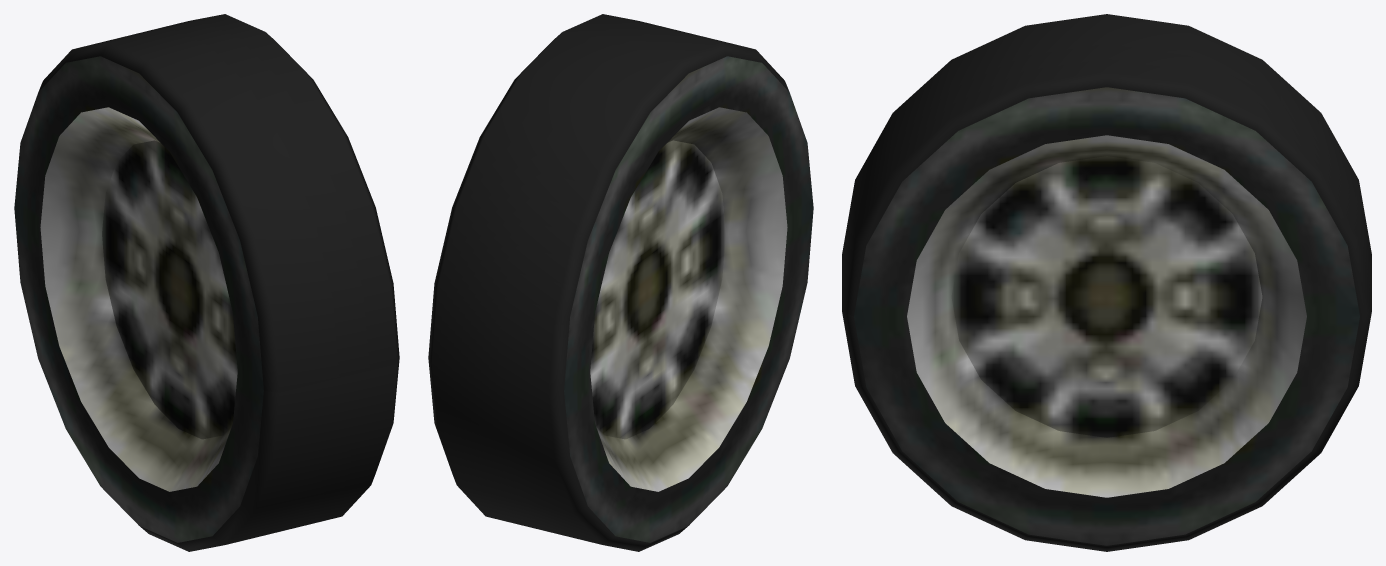
The model's file is wheel_front_left.glb.
The picture shows the model from 3 angles, left to right: view 1: azimuth 30°, elevation 25°; view 2: azimuth 150°, elevation 25°; view 3: azimuth 270°, elevation 25°; orthographic projection.
Visible parts, largest first — view 1: tire_fl; view 2: tire_fl; view 3: tire_fl.
Part boxes in pixels (left/top/right/bottom): tire_fl: left=14, top=14, right=399, bottom=551; tire_fl: left=428, top=14, right=813, bottom=551; tire_fl: left=842, top=14, right=1371, bottom=551.
Bounding box in the file's own units: 0.15 × 0.5 × 0.5.
1 material, 1 textured.
